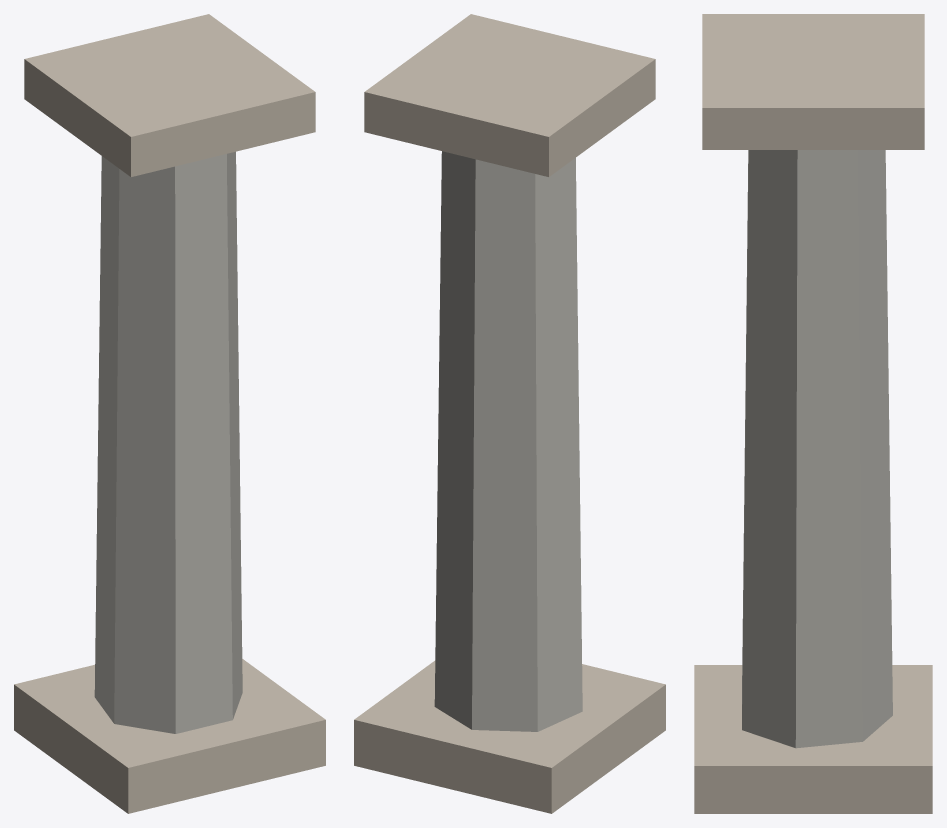
File: column_v17.glb
3 renders of one model, left to right at view 1: azimuth 30°, elevation 25°; view 2: azimuth 150°, elevation 25°; view 3: azimuth 270°, elevation 25°, orthographic. The views are drawn at different scales.
Visible parts, largest first — view 1: lod0; view 2: lod0; view 3: lod0.
Boxes of the visible parts, x1,y1,x2,y2 form: lod0: [14, 14, 325, 813]; lod0: [354, 14, 665, 813]; lod0: [694, 14, 932, 813].
Size of what is drawn, in the model's own units: 0.72 by 2.34 by 0.72.
